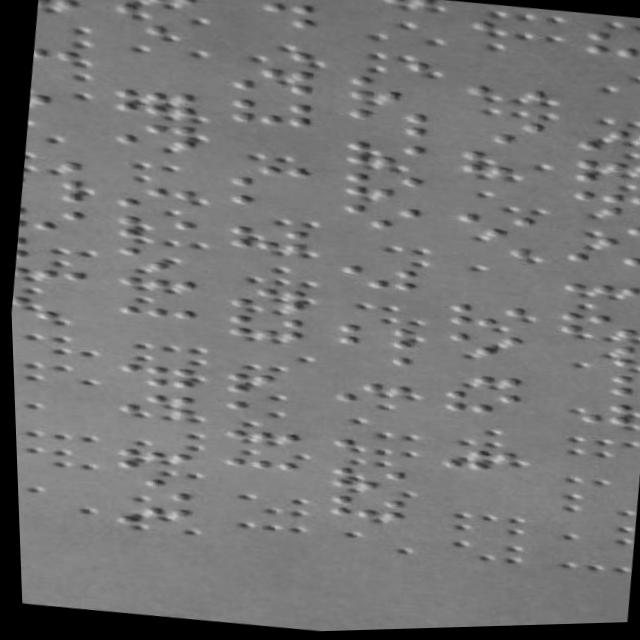braiile: (223, 94, 316, 134), (343, 106, 429, 144), (449, 209, 535, 247), (333, 261, 418, 298), (112, 302, 195, 339), (225, 160, 310, 196), (215, 454, 297, 491), (342, 170, 423, 206), (559, 252, 640, 288), (337, 202, 422, 236), (443, 301, 524, 336), (224, 191, 307, 225), (223, 312, 304, 345), (321, 493, 402, 526), (437, 390, 518, 423), (567, 189, 640, 225), (579, 31, 640, 69)
